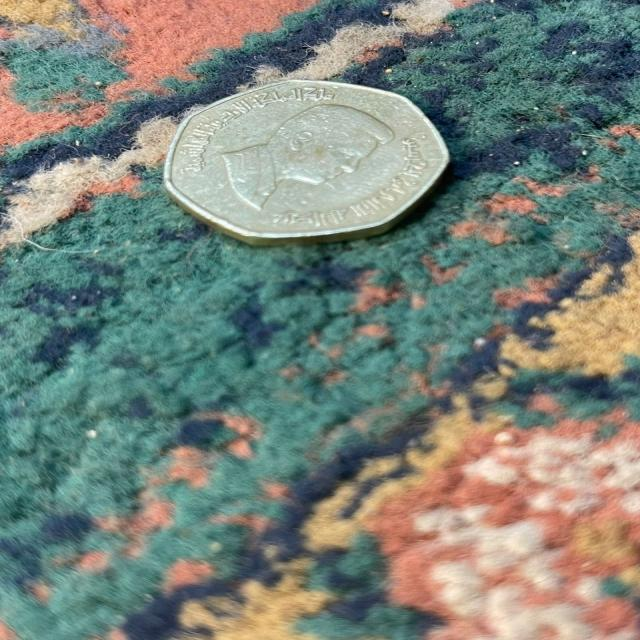25-coins: (162, 79, 450, 243)
